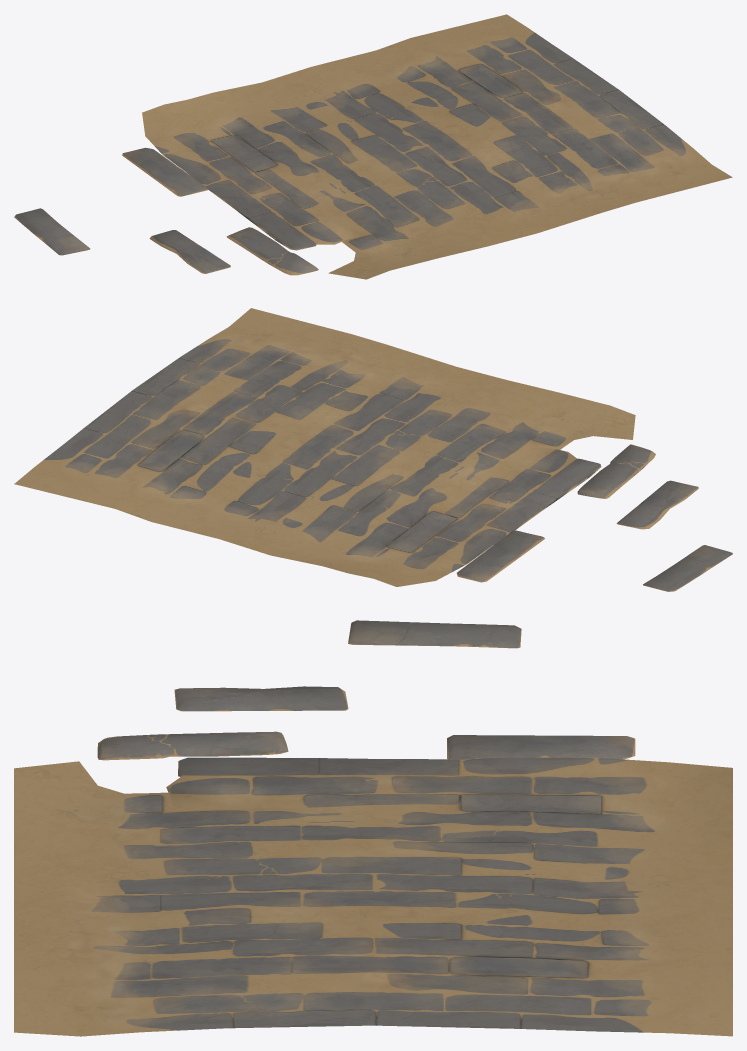
Rendered from SM_ENV_LKNVLD_Ground_Right_RoadToGate_02.FBX.
3 views of the same model, one above another, from view 1: azimuth 30°, elevation 25°; view 2: azimuth 150°, elevation 25°; view 3: azimuth 270°, elevation 25° (orthographic). The views are drawn at different scales.
Parts seen in each view (by area): view 1: SM_ENV_LKNVLD_Ground_Right_RoadToGate_02; view 2: SM_ENV_LKNVLD_Ground_Right_RoadToGate_02; view 3: SM_ENV_LKNVLD_Ground_Right_RoadToGate_02.
Part boxes in pixels (x1,y1,x2,y2): SM_ENV_LKNVLD_Ground_Right_RoadToGate_02: [14, 14, 732, 279]; SM_ENV_LKNVLD_Ground_Right_RoadToGate_02: [14, 308, 732, 591]; SM_ENV_LKNVLD_Ground_Right_RoadToGate_02: [14, 620, 732, 1036].
Bounding box in the file's own units: 1218 × 46.9 × 842.
